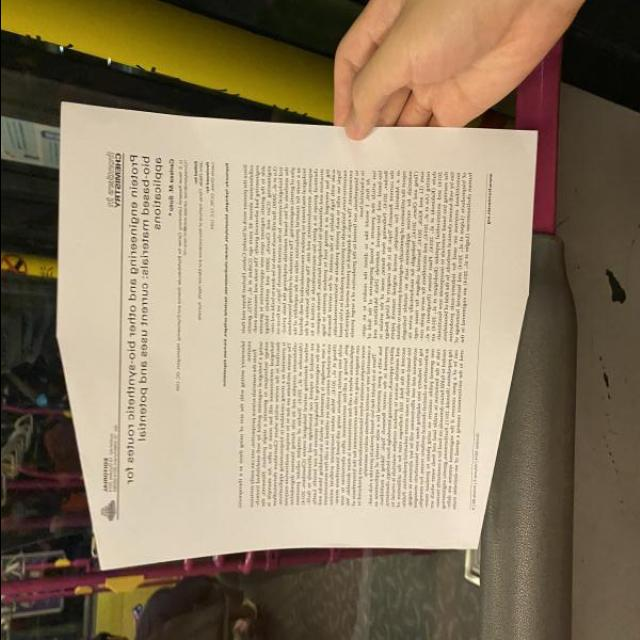kertas: (35, 103, 537, 591)
